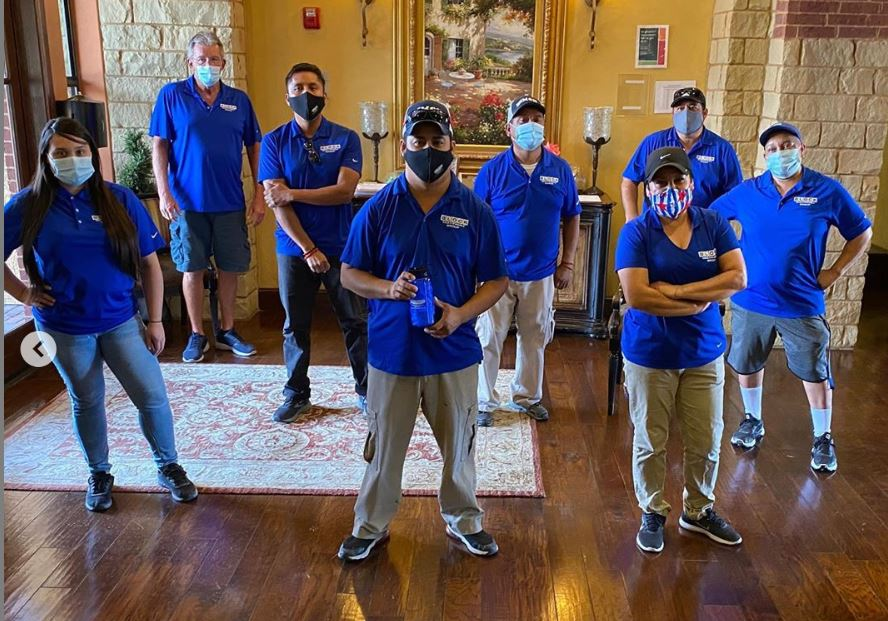Caution: (4, 25, 261, 513), (256, 62, 498, 573), (337, 98, 587, 562), (615, 85, 749, 565)
